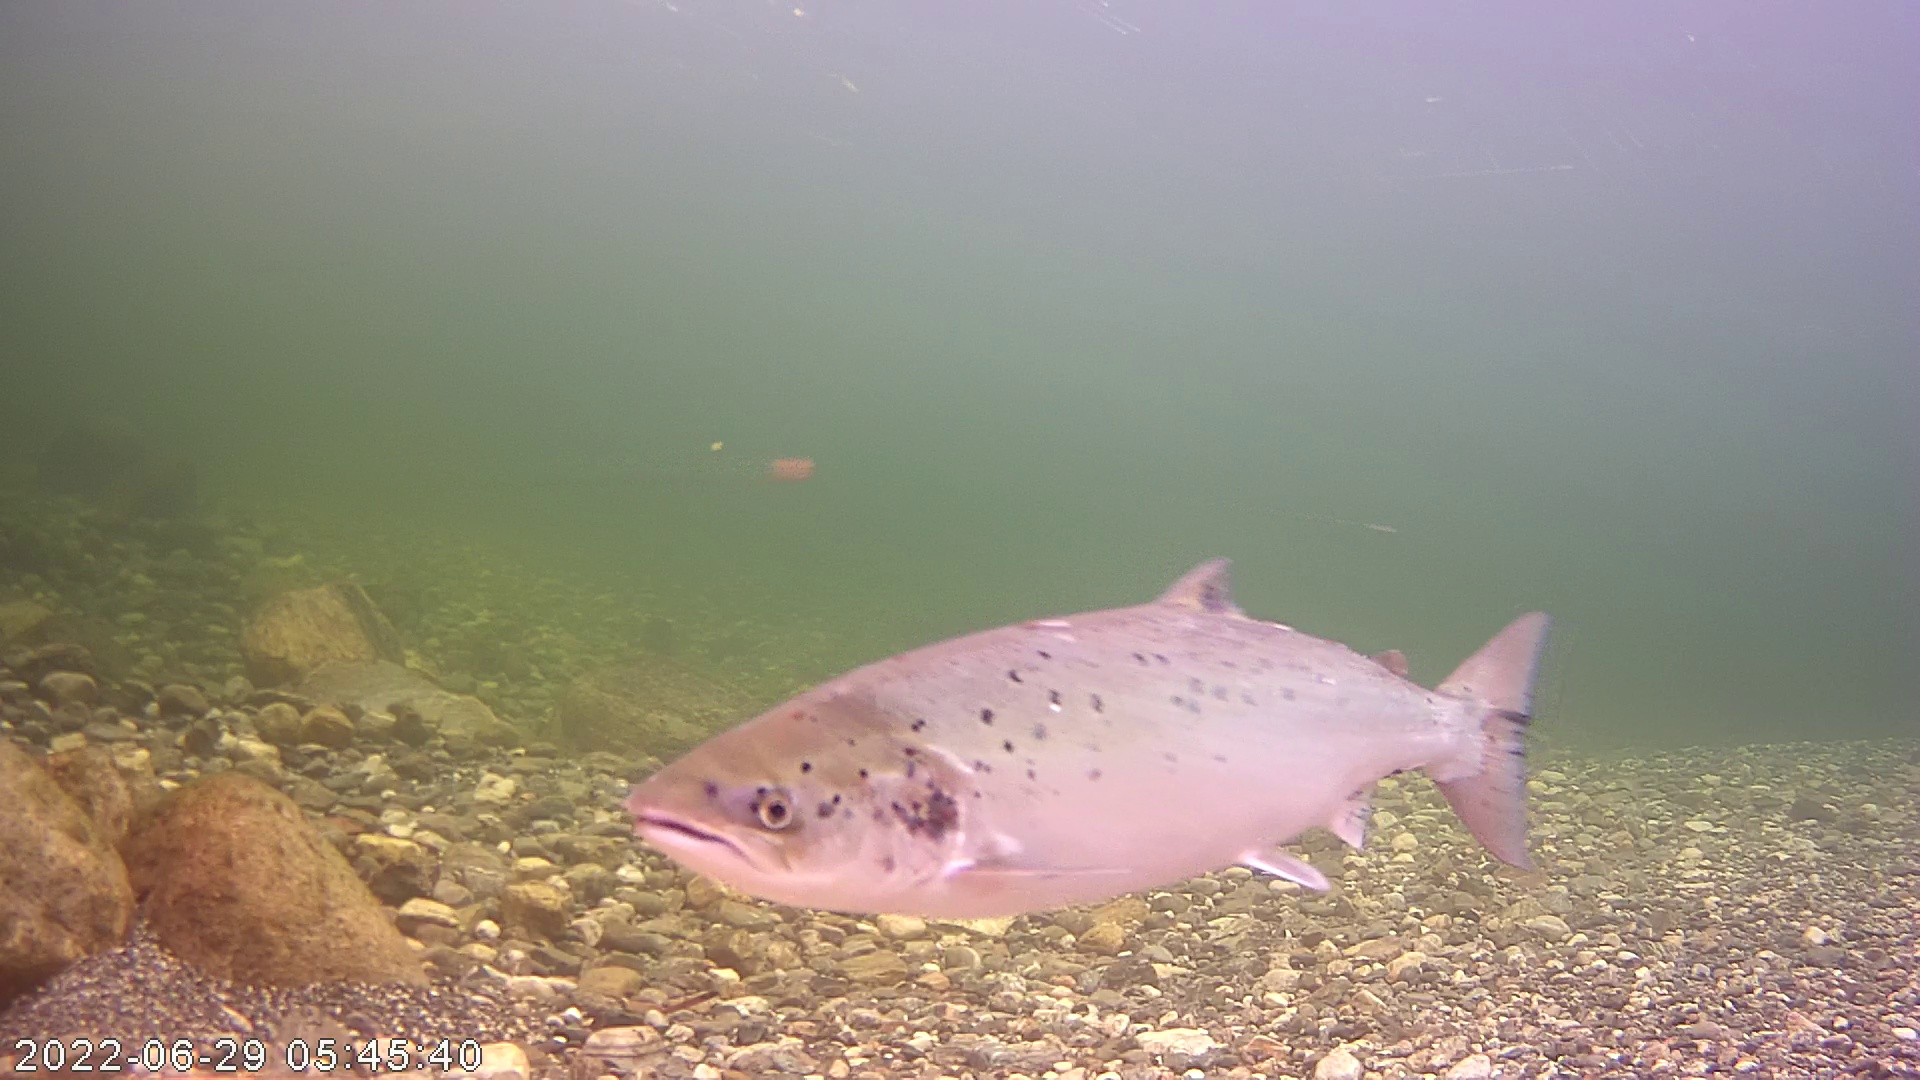salmon: (636, 489, 1564, 938)
